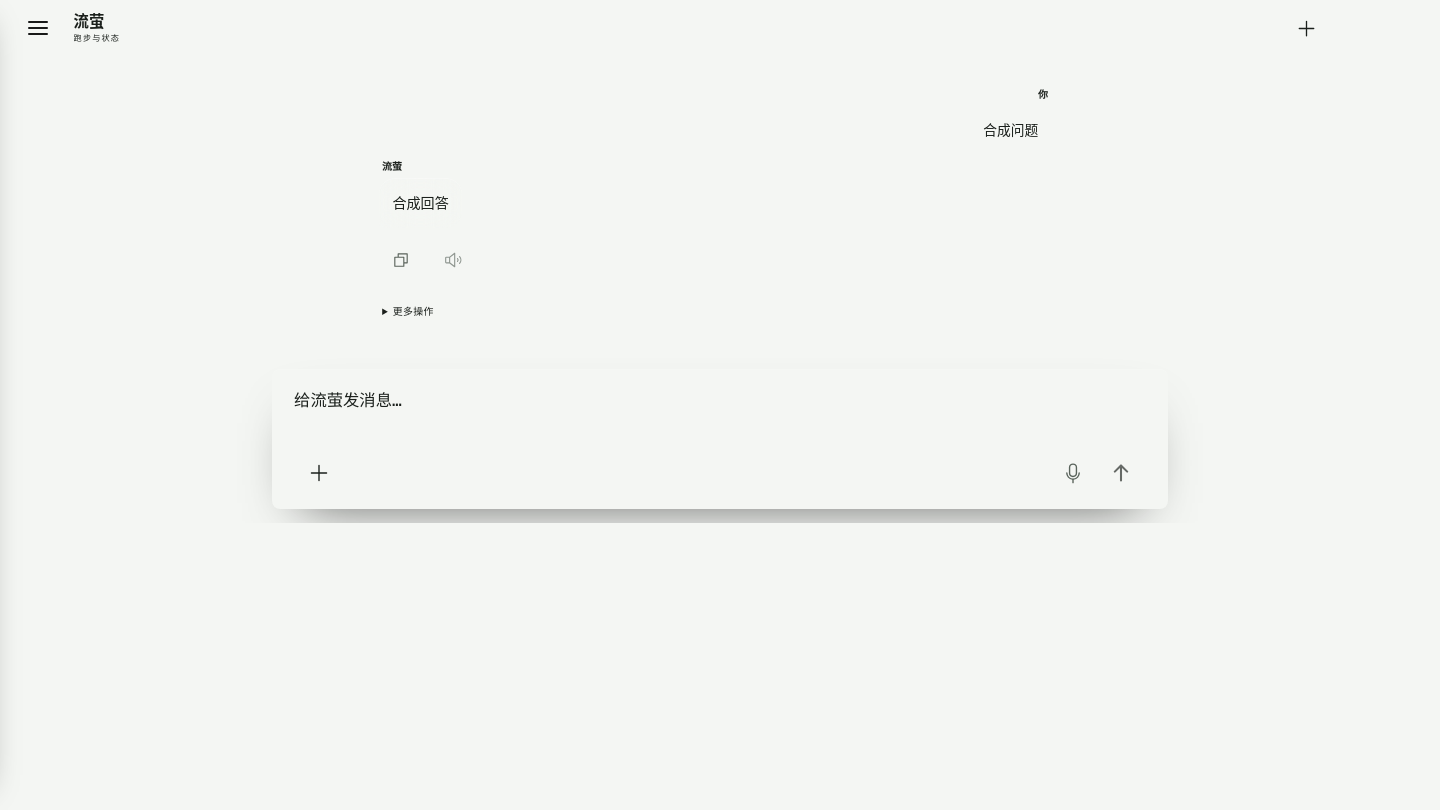
确认仅删除所选会话，清理待办可显式重试且不创建或恢复任务
The width and height of the screenshot is (1440, 810).
Expected: the text "合成回答" is shown, [392,190,449,216]
Click the button named "打开侧边栏".
click(38, 28)  # box [16,6,60,50]
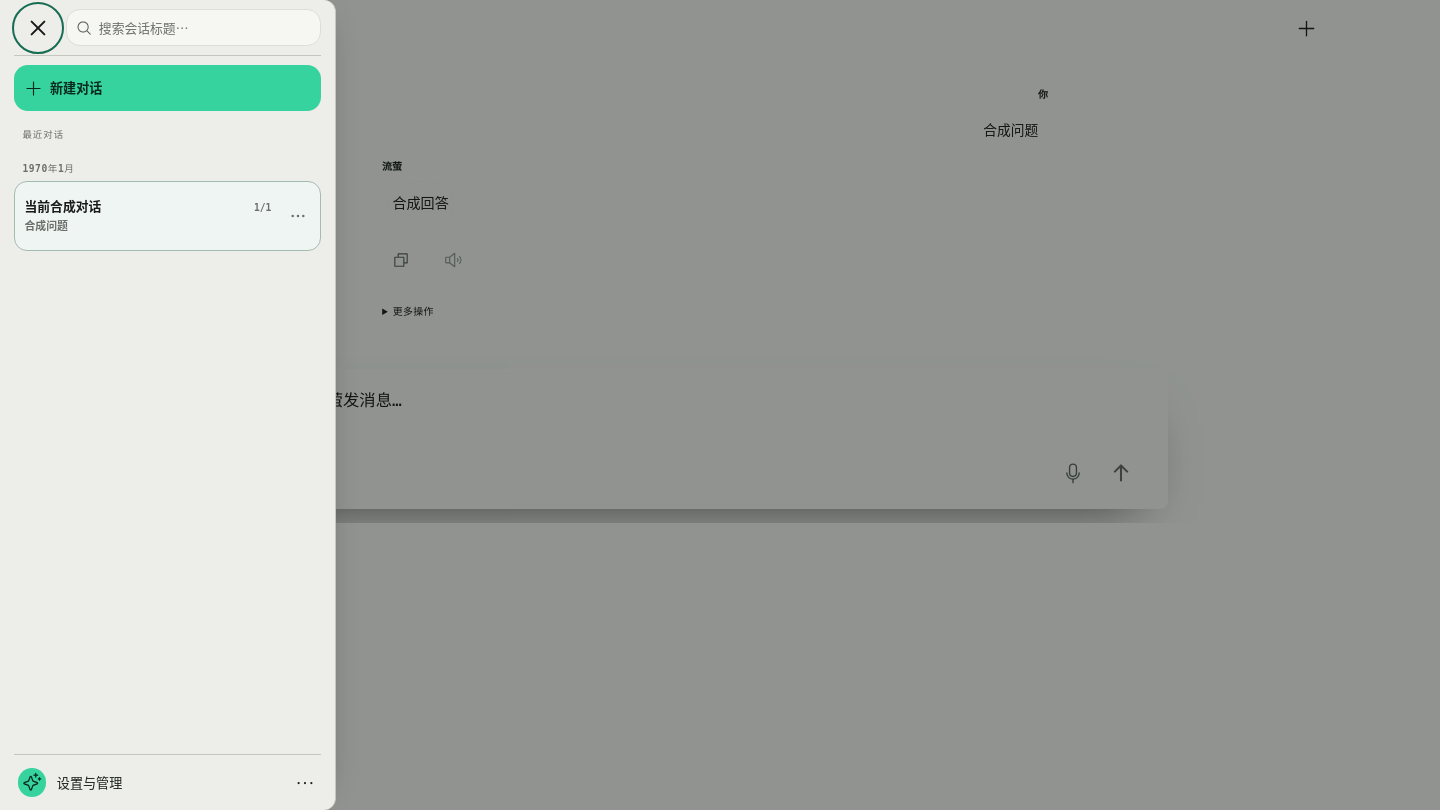
Click the button named "管理对话：当前合成对话".
click(298, 216)  # box [276,194,320,238]
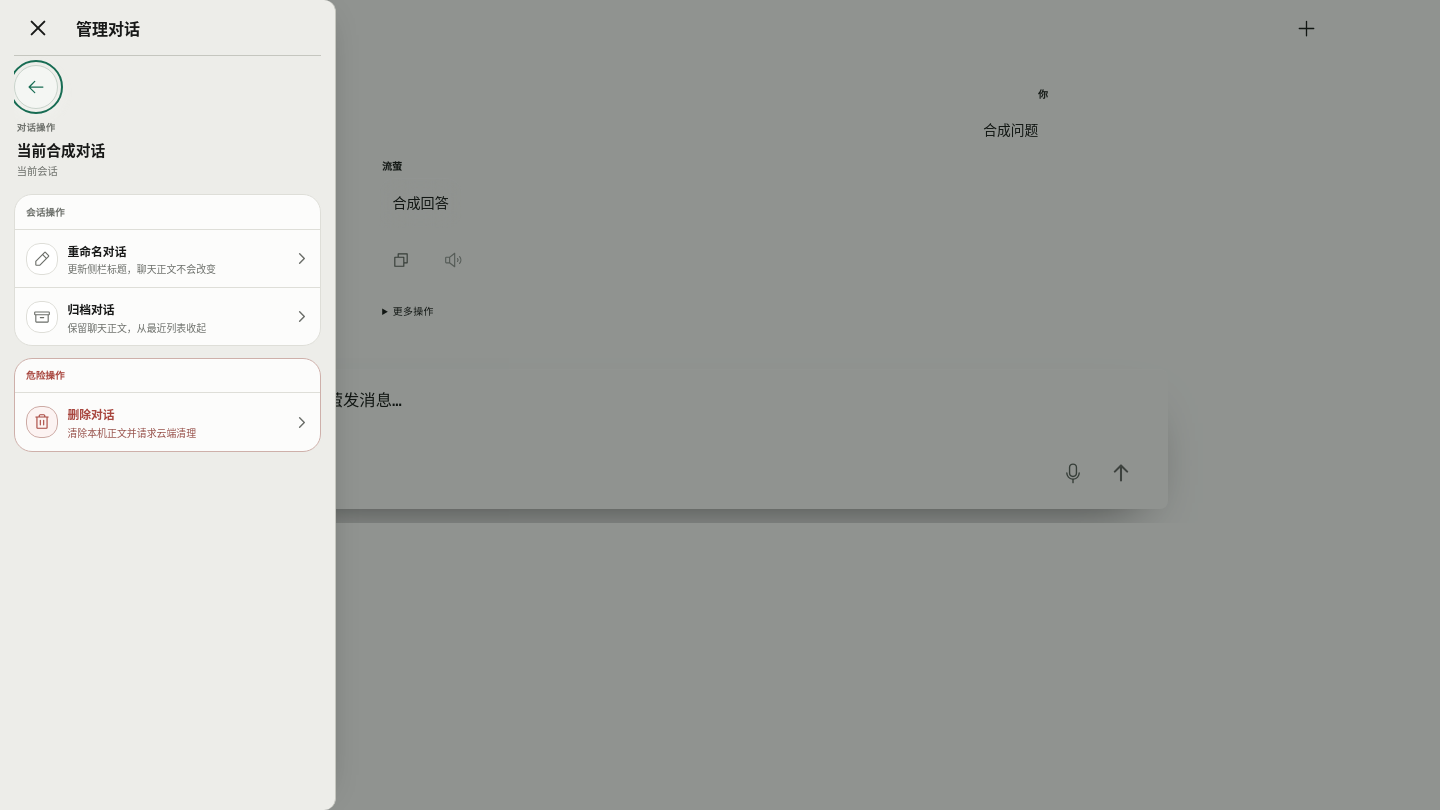
Click the button "删除对话 清除本机正文并请求云端清理".
click(168, 422)  # box [15,393,320,451]
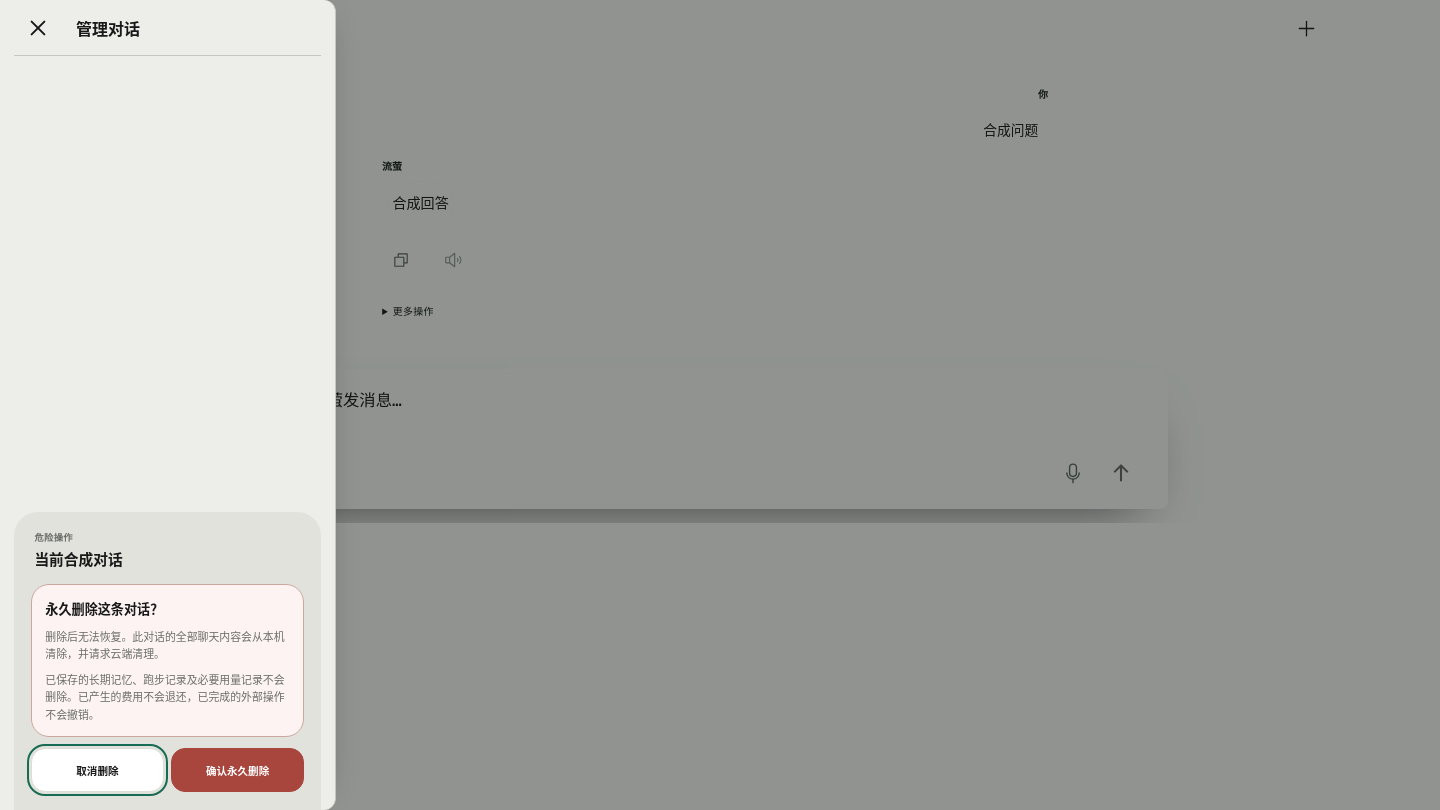
Click the button "确认永久删除".
click(238, 770)  # box [171,748,304,792]
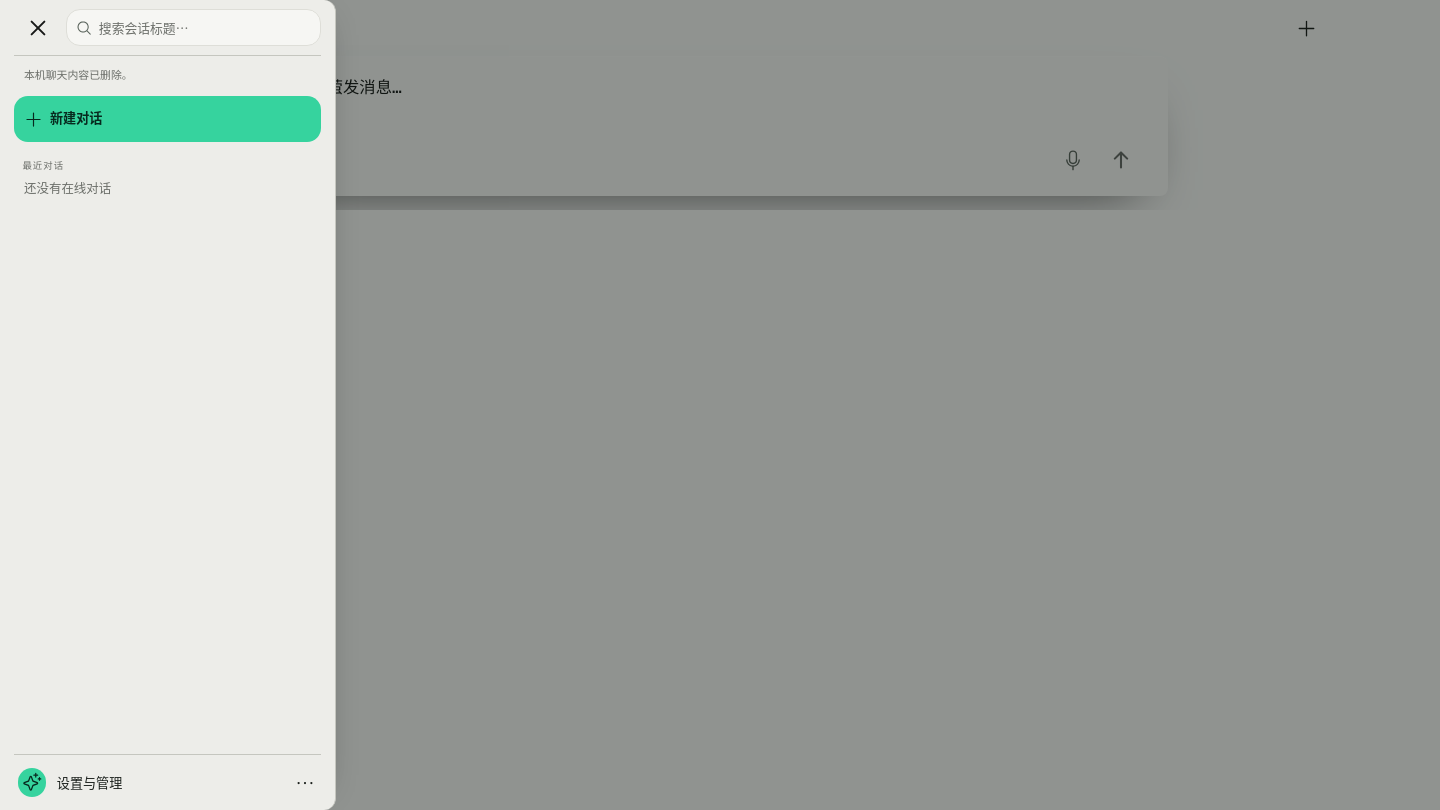
Expected: the text "本机聊天内容已删除。" is shown, [24,69,133,82]
Click the button "设置与管理".
click(90, 782)  # box [14,754,321,809]
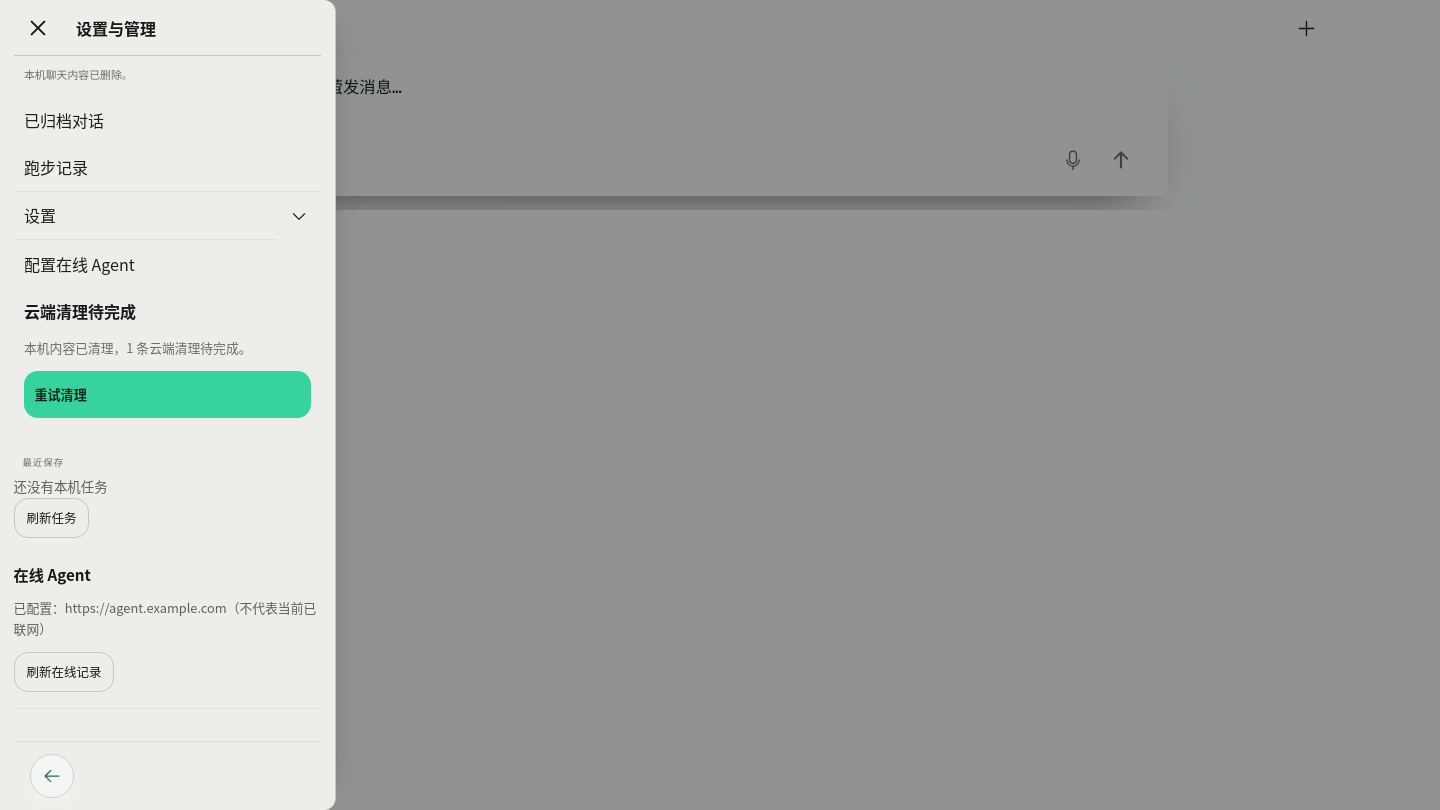
Expected: the element named "云端清理待办" shows "1 条云端清理待完成", [14,288,321,439]
Click the button "重试清理".
click(61, 394)  # box [24,371,311,418]
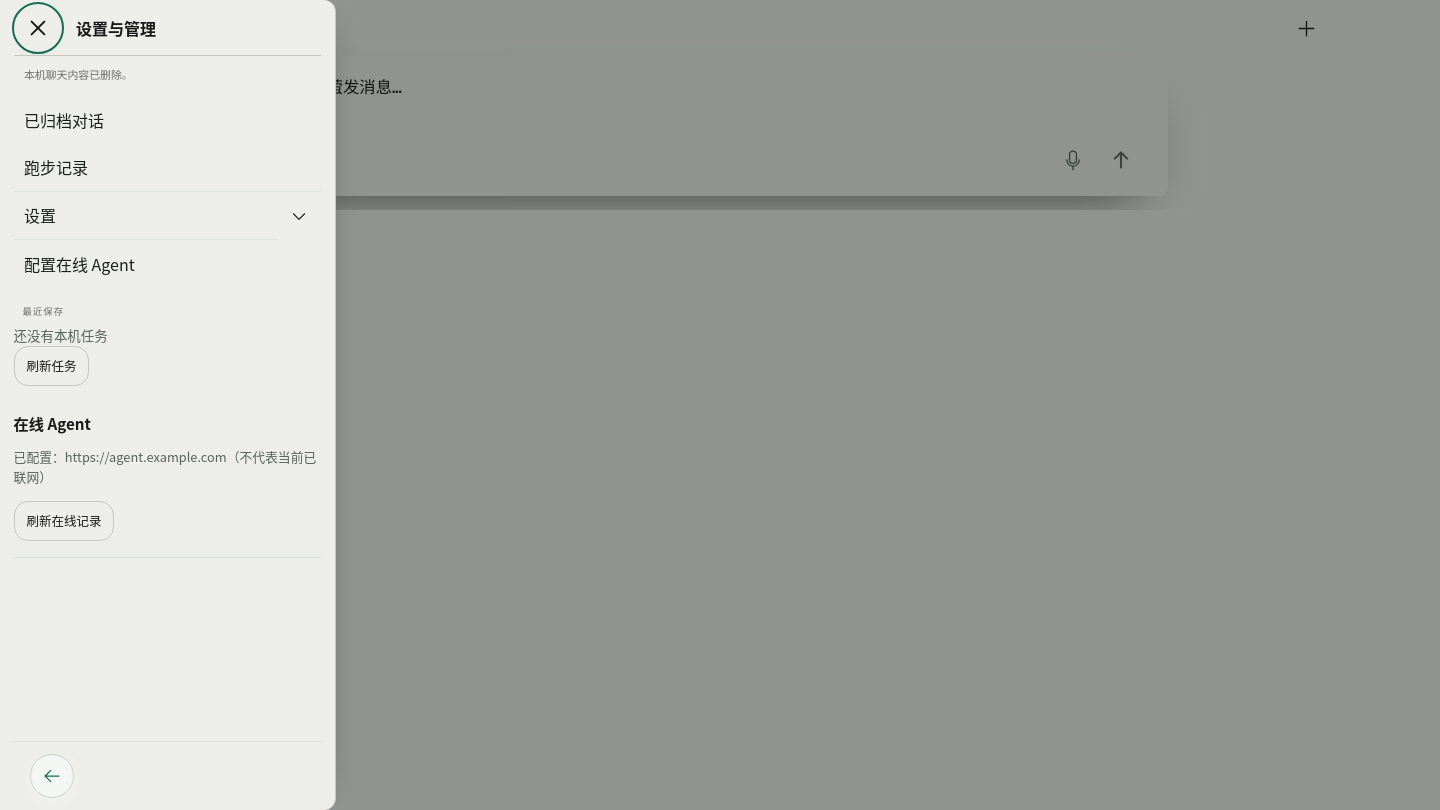
Expected: the element "云端清理待办" is gone
